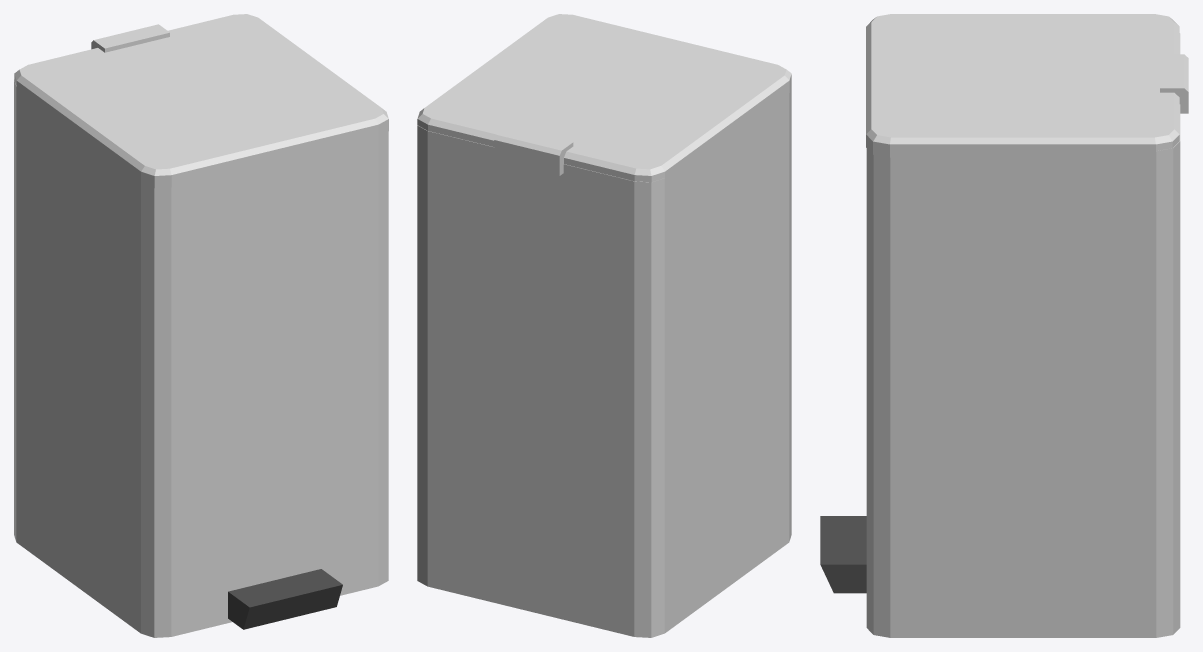
Rendered from trash_bin.glb.
3 views of the same model, side by side, from view 1: azimuth 30°, elevation 25°; view 2: azimuth 150°, elevation 25°; view 3: azimuth 270°, elevation 25° (orthographic). The views are drawn at different scales.
Visible parts, largest first — view 1: TrashBin, TrashBin Ac; view 2: TrashBin, TrashBin Ac; view 3: TrashBin, TrashBin Ac.
Boxes of the visible parts, <box> form: TrashBin: <box>14,24,388,637</box>; TrashBin Ac: <box>14,14,388,188</box>; TrashBin: <box>417,87,791,637</box>; TrashBin Ac: <box>417,14,791,182</box>; TrashBin: <box>820,33,1188,637</box>; TrashBin Ac: <box>866,14,1179,157</box>.
Bounding box in the file's own units: 0.2902 × 0.5318 × 0.3531.
Materials: 2 (2 with a texture image).
